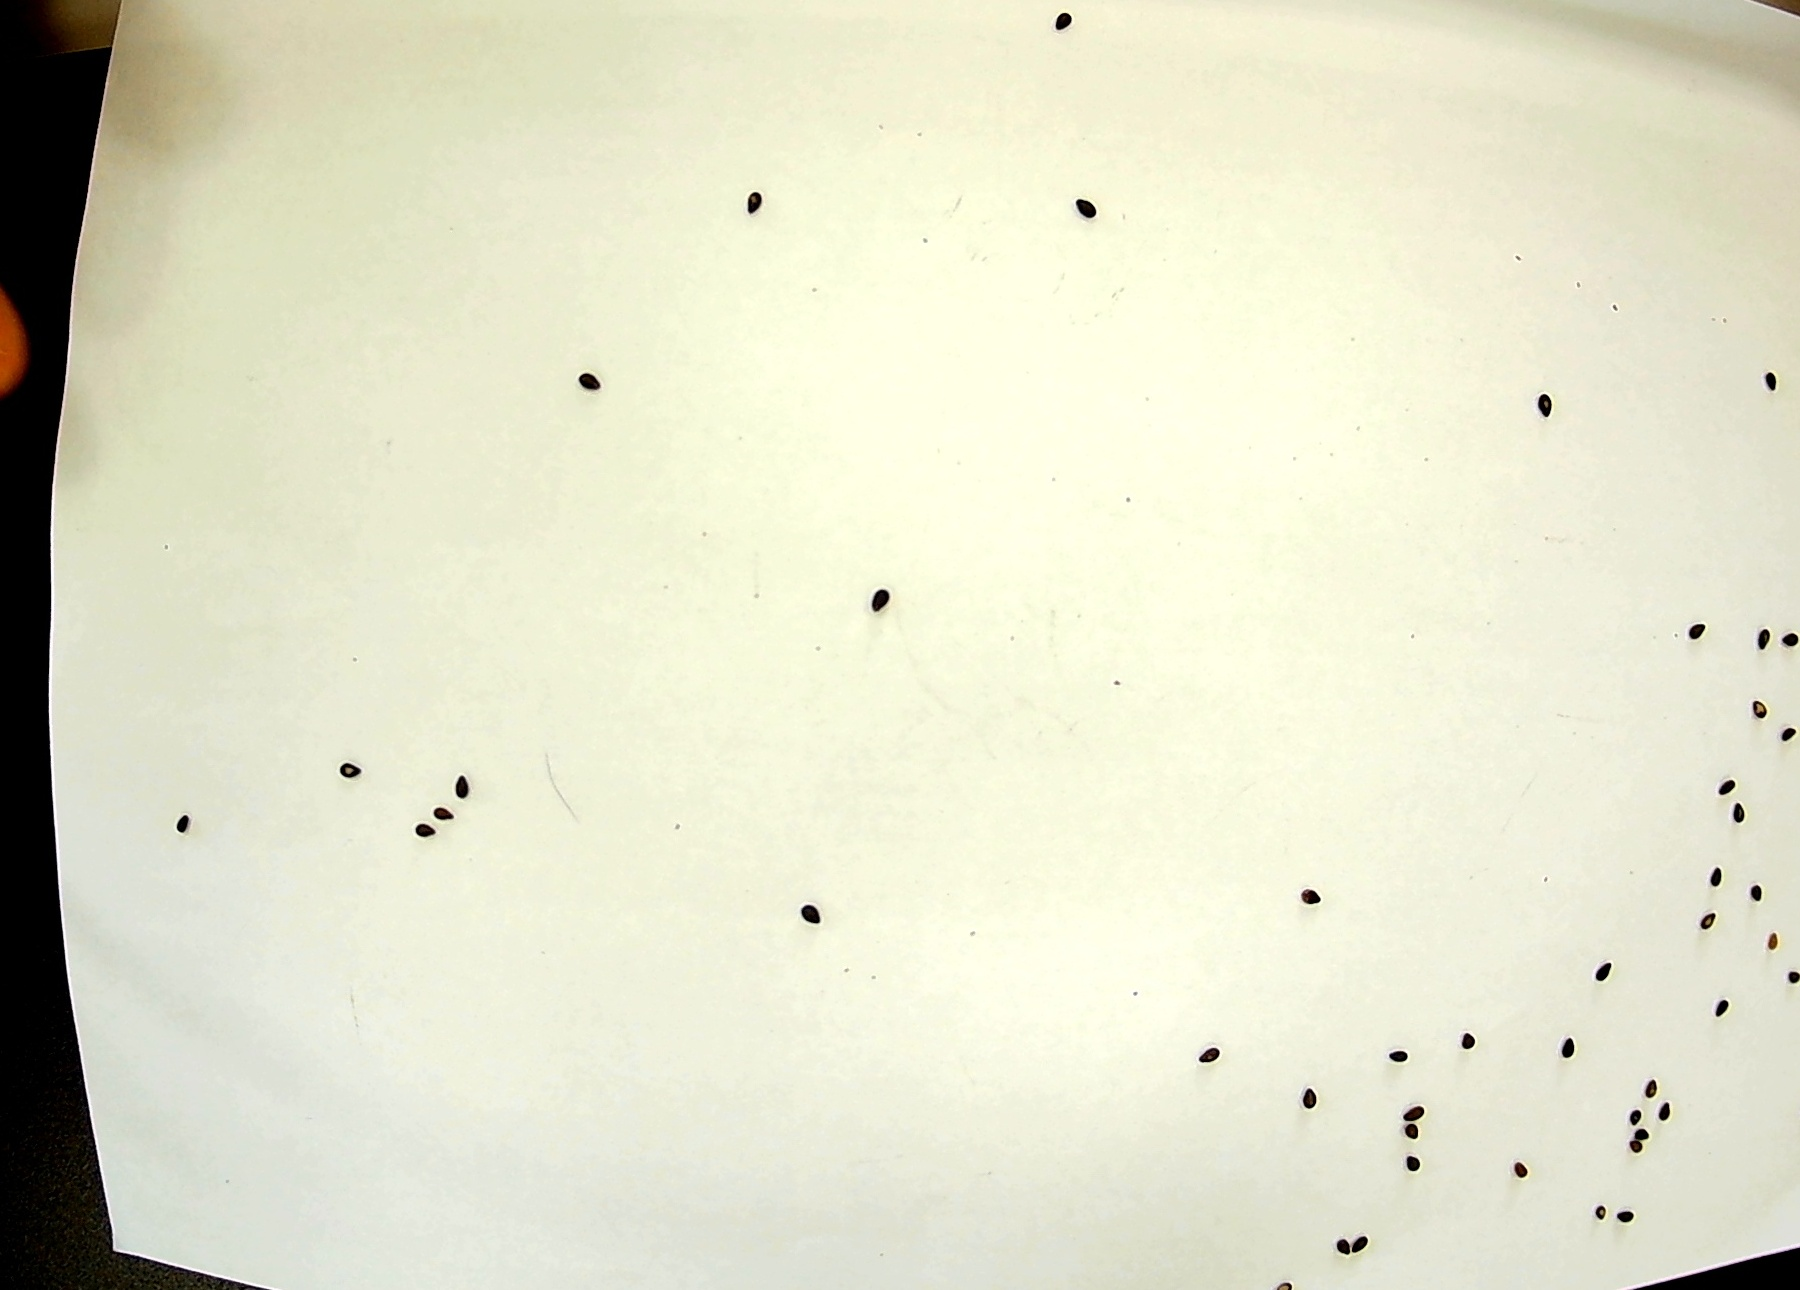sesami: (1711, 796, 1769, 824), (1701, 773, 1747, 807), (1192, 1039, 1231, 1076), (1528, 384, 1564, 423), (572, 362, 608, 396), (1739, 875, 1769, 914), (1700, 859, 1732, 895), (1746, 697, 1778, 730), (1619, 1203, 1649, 1238), (1299, 1078, 1327, 1115), (1504, 1157, 1540, 1185), (1292, 891, 1334, 914), (1757, 364, 1789, 395), (1753, 623, 1780, 658), (1587, 961, 1621, 987), (800, 900, 830, 930), (871, 584, 896, 618), (1713, 993, 1739, 1028), (1687, 616, 1715, 646), (453, 769, 477, 804), (174, 810, 201, 840), (1458, 1028, 1480, 1064), (431, 797, 460, 824), (333, 758, 364, 783), (745, 191, 774, 216), (1330, 1230, 1351, 1265), (412, 820, 442, 843), (1393, 1122, 1426, 1143), (1588, 1201, 1614, 1226), (1559, 1039, 1584, 1065), (1762, 931, 1789, 956), (1049, 11, 1077, 35), (1397, 1103, 1430, 1122), (1776, 966, 1800, 993), (1073, 195, 1100, 218), (1355, 1234, 1376, 1262), (1701, 907, 1722, 935), (1642, 1076, 1660, 1107), (1627, 1134, 1653, 1155), (1780, 625, 1800, 652), (1388, 1046, 1415, 1064), (1658, 1103, 1673, 1134), (1401, 1149, 1422, 1170), (1778, 727, 1800, 746), (1627, 1107, 1642, 1131)
